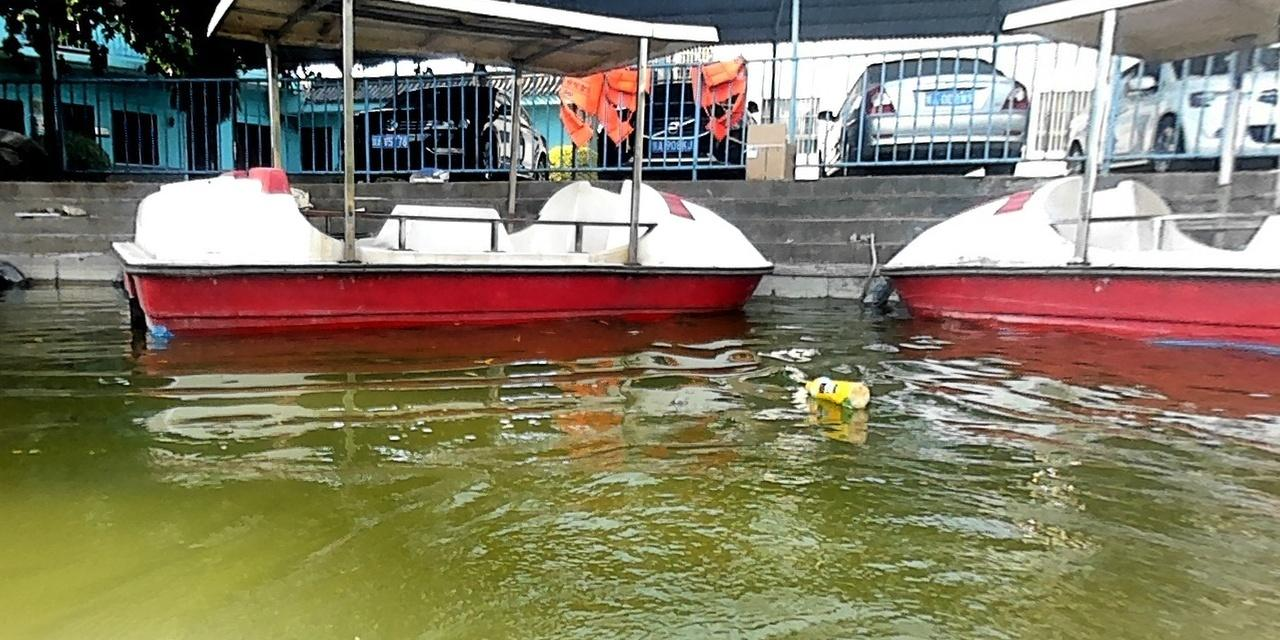bottle: (804, 376, 869, 408)
